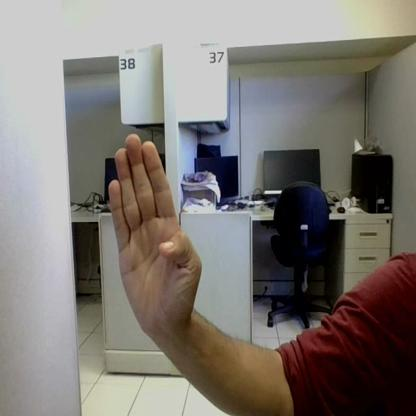B: (109, 134, 200, 322)
